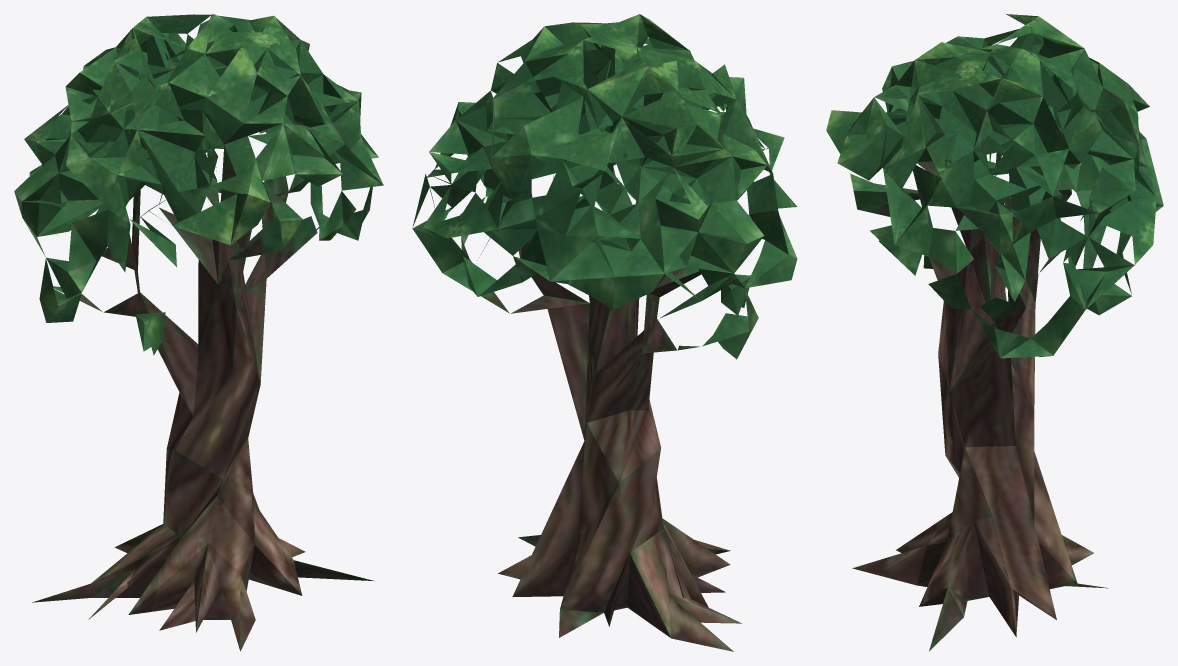
The model's file is oak.glb.
The picture shows the model from 3 angles, left to right: view 1: azimuth 30°, elevation 25°; view 2: azimuth 150°, elevation 25°; view 3: azimuth 270°, elevation 25°; orthographic projection. The views are drawn at different scales.
Visible parts, largest first — view 1: output_unwrapped; view 2: output_unwrapped; view 3: output_unwrapped.
Part boxes in pixels (bbox=[...]): output_unwrapped: bbox=[14, 14, 383, 651]; output_unwrapped: bbox=[412, 14, 797, 651]; output_unwrapped: bbox=[826, 14, 1163, 651].
Bounding box in the file's own units: 1.2 × 1.85 × 1.03.
1 material, 1 textured.
